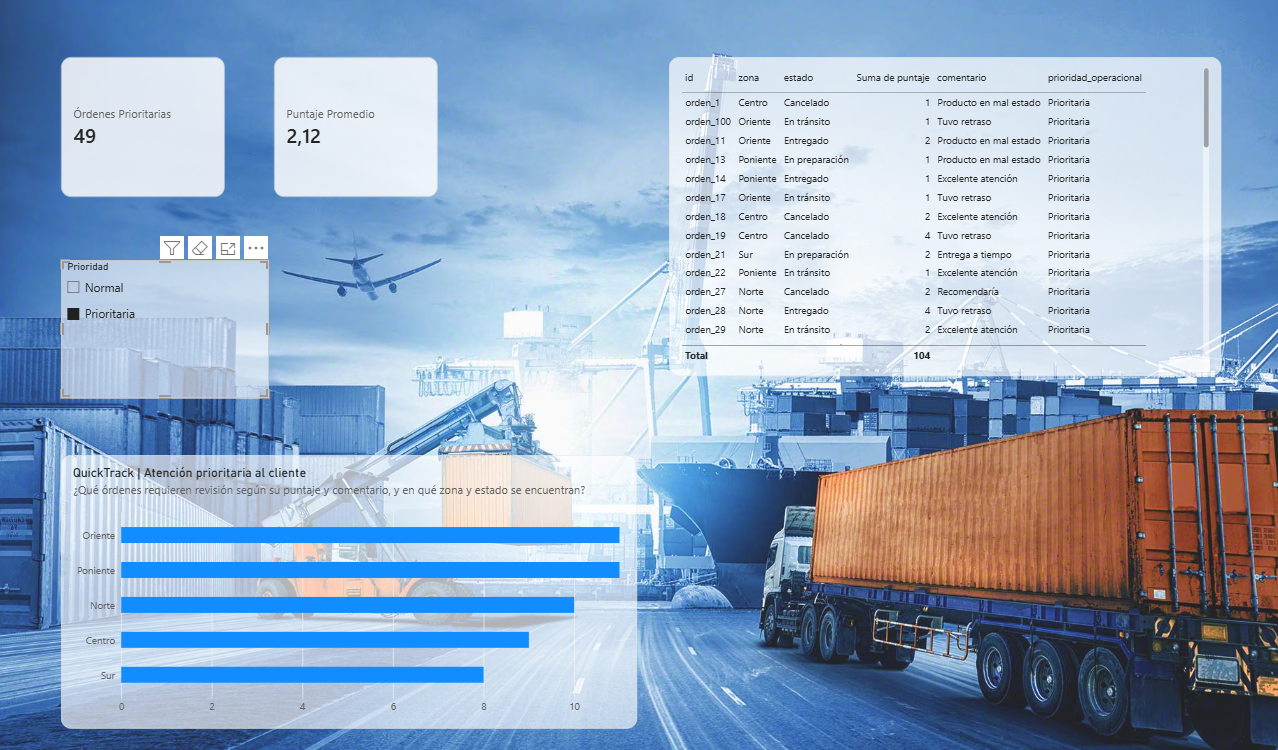

The page's visual inventory and layout, read from the dashboard file:
{"tool":"powerbi","page":{"name":"Dashboard","canvas":[1920,1080],"ordinal":0},"visuals":[{"type":"cardVisual","fields":{"Data":["CountNonNull(prioridad_operacional.id)"]},"box":[91.4,84.3,234.3,200],"z":0},{"type":"slicer","fields":{"Values":["prioridad_operacional.prioridad_operacional"]},"box":[91.4,374.3,296.7,197.8],"z":1000},{"type":"cardVisual","fields":{"Data":["Avg(prioridad_operacional.puntaje)"]},"box":[395.7,84.3,234.3,200],"z":2000},{"type":"tableEx","fields":{"Values":["prioridad_operacional.id","prioridad_operacional.zona","prioridad_operacional.estado","Sum(prioridad_operacional.puntaje)","prioridad_operacional.comentario","prioridad_operacional.prioridad_operacional"]},"box":[960,84.3,788.6,455.7],"z":2001},{"type":"clusteredBarChart","title":"QuickTrack | Atención prioritaria al cliente","fields":{"Category":["prioridad_operacional.zona"],"Y":["CountNonNull(prioridad_operacional.id)"]},"box":[91.4,652.9,822.9,391.4],"z":2002}]}

Visuals, with their boxes on the page's 1920x1080 design canvas (x1, y1, x2, y2). These are canvas units, not pixel positions in the 1278x750 screenshot, which may show the page scaled, cropped or inside an application window:
cardVisual - CountNonNull(prioridad_operacional.id): <bbox>91, 84, 326, 284</bbox>
slicer - prioridad_operacional.prioridad_operacional: <bbox>91, 374, 388, 572</bbox>
cardVisual - Avg(prioridad_operacional.puntaje): <bbox>396, 84, 630, 284</bbox>
tableEx - prioridad_operacional.id x prioridad_operacional.zona: <bbox>960, 84, 1749, 540</bbox>
"QuickTrack | Atención prioritaria al cliente" clusteredBarChart: <bbox>91, 653, 914, 1044</bbox>
